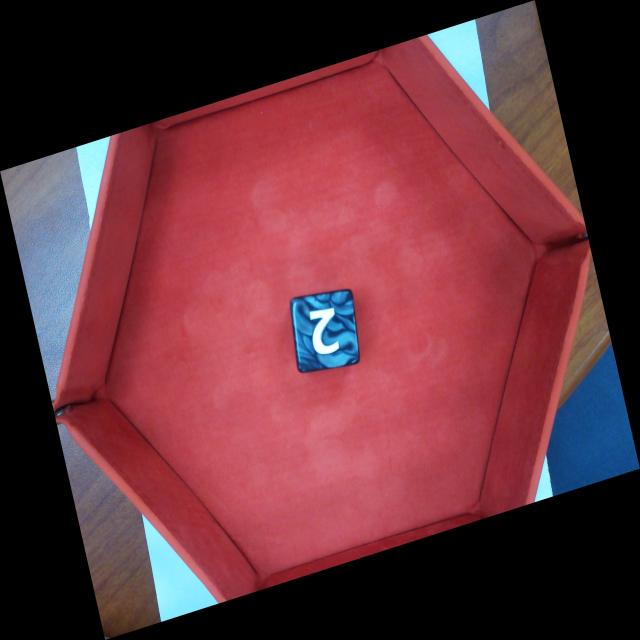dice: (289, 287, 362, 376)
